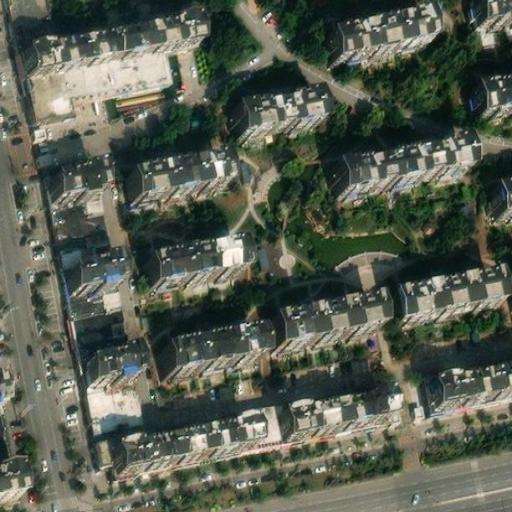building: (20, 9, 201, 74), (26, 46, 175, 116), (334, 131, 473, 192), (101, 425, 244, 484), (258, 299, 376, 353), (101, 418, 275, 453), (269, 396, 385, 446), (383, 278, 495, 327), (150, 331, 255, 381), (325, 7, 432, 56), (136, 248, 235, 298), (127, 149, 230, 195), (232, 84, 322, 133), (418, 373, 512, 419), (83, 383, 143, 435), (67, 307, 127, 352), (11, 0, 61, 46), (58, 266, 107, 300), (473, 74, 512, 114), (50, 163, 97, 196), (81, 352, 124, 384), (472, 0, 512, 21), (491, 178, 512, 214), (0, 478, 17, 512)
